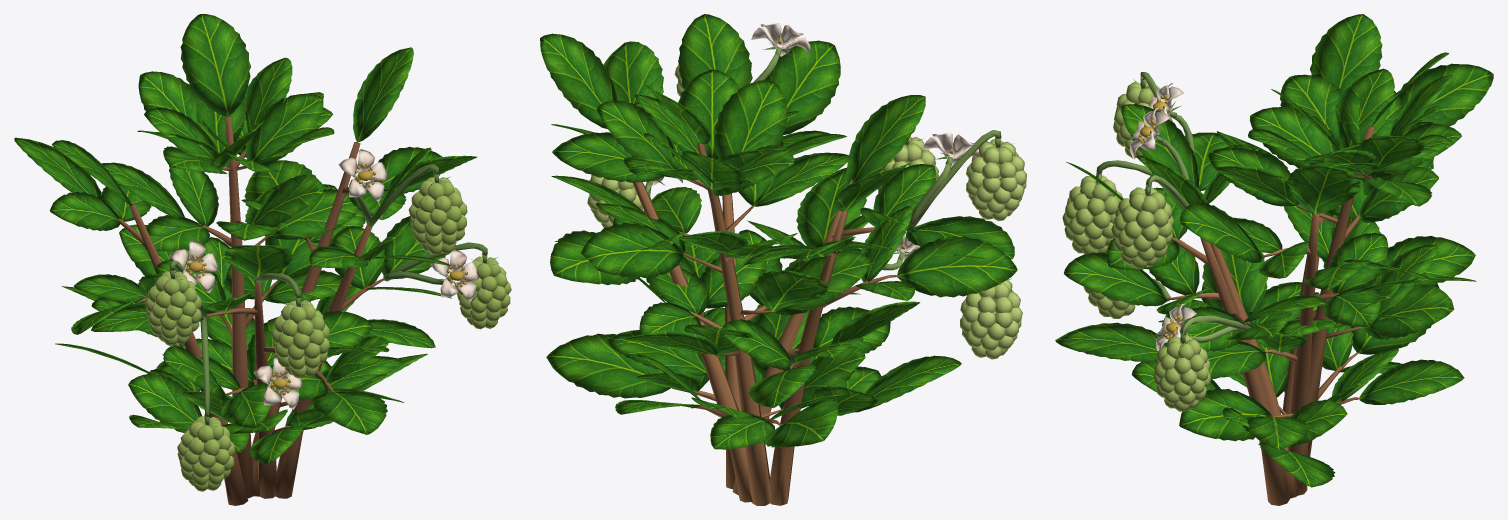
Rendered from NP_Blackberry_Flowering.fbx.
3 renders of one model, left to right at view 1: azimuth 30°, elevation 25°; view 2: azimuth 150°, elevation 25°; view 3: azimuth 270°, elevation 25°, orthographic. The views are drawn at different scales.
Visible parts, largest first — view 1: NP_Blackberry_Flowering; view 2: NP_Blackberry_Flowering; view 3: NP_Blackberry_Flowering.
Part boxes in pixels (left/top/right/bottom): NP_Blackberry_Flowering: left=14, top=14, right=511, bottom=505; NP_Blackberry_Flowering: left=540, top=14, right=1026, bottom=505; NP_Blackberry_Flowering: left=1055, top=14, right=1493, bottom=505.
Bounding box in the file's own units: 76.72 × 75.61 × 67.17.
